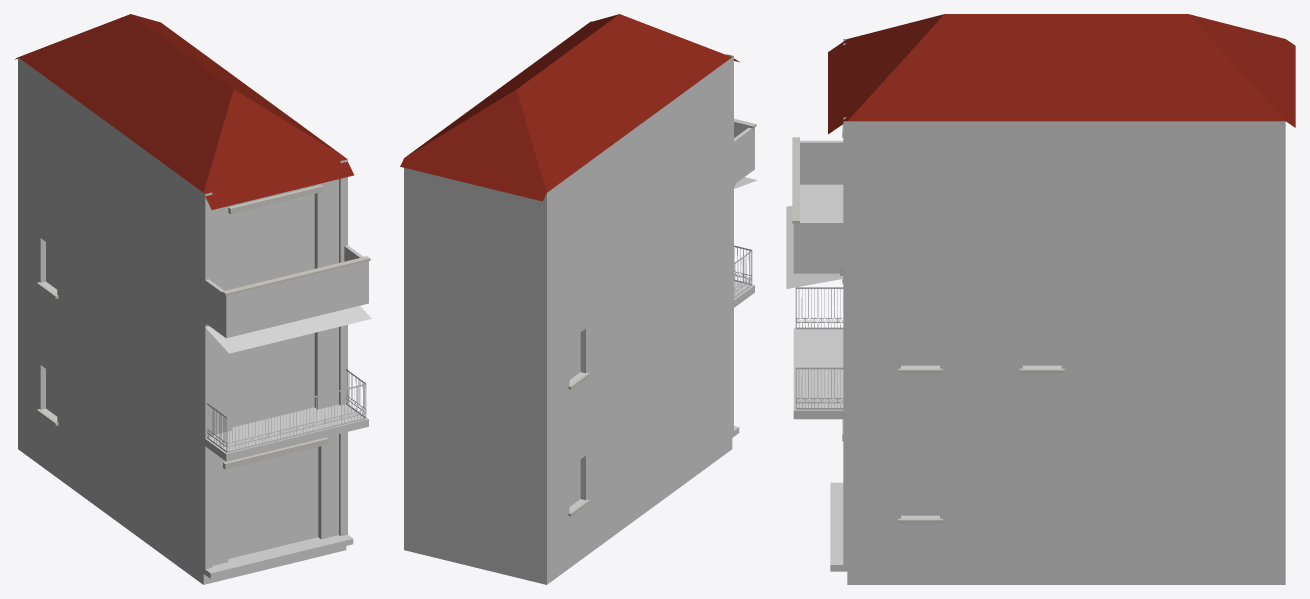
The picture shows the model from 3 angles, left to right: view 1: azimuth 30°, elevation 25°; view 2: azimuth 150°, elevation 25°; view 3: azimuth 270°, elevation 25°; orthographic projection. The views are drawn at different scales.
Visible parts, largest first — view 1: TH_D09_LR_23_LOD0; view 2: TH_D09_LR_23_LOD0; view 3: TH_D09_LR_23_LOD0.
Part boxes in pixels (bbox=[...]): TH_D09_LR_23_LOD0: bbox=[15, 14, 371, 584]; TH_D09_LR_23_LOD0: bbox=[400, 14, 757, 584]; TH_D09_LR_23_LOD0: bbox=[786, 14, 1295, 584].
Size of what is drawn, in the model's own units: 4.16 by 12 by 10.45.
